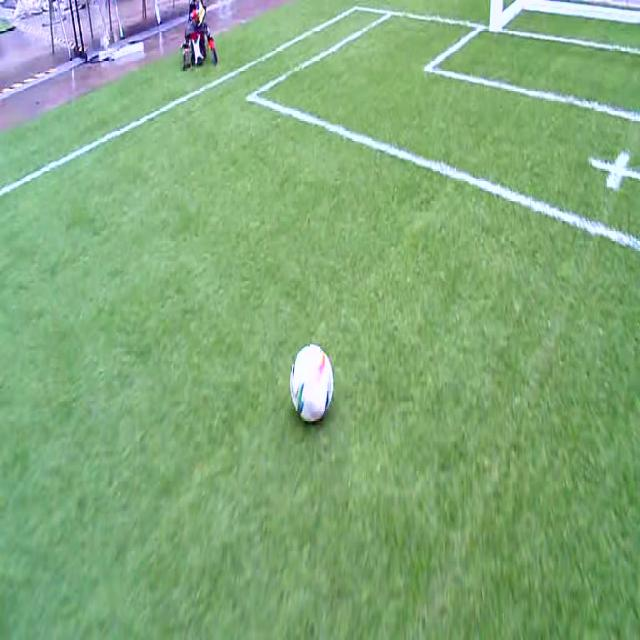ball: (290, 345, 334, 422)
